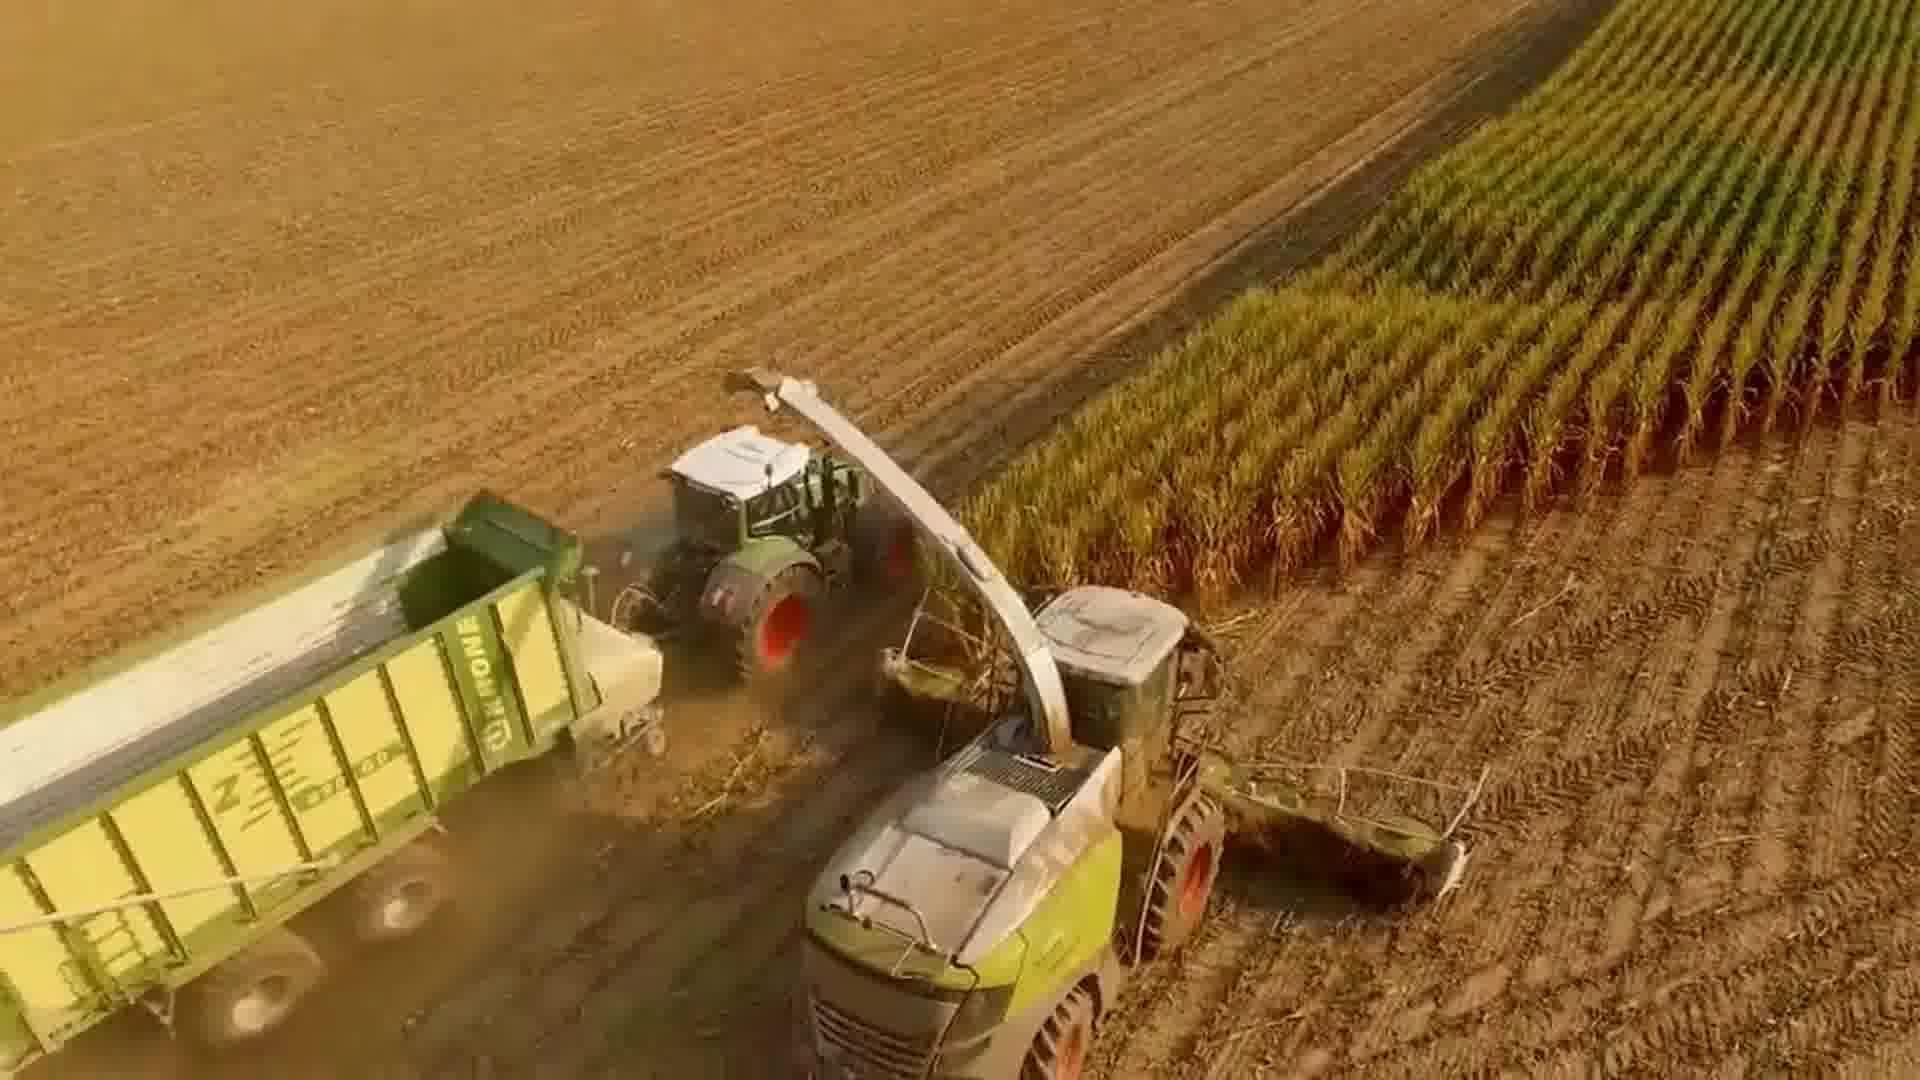combine harvester: (717, 357, 1501, 1080)
tractor: (611, 410, 932, 682)
trailer: (0, 475, 675, 1080)
